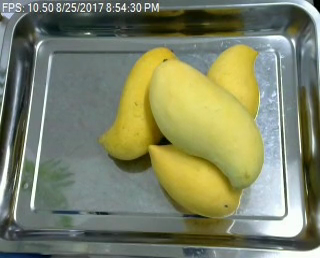Mango: (148, 57, 266, 189), (97, 46, 178, 162), (147, 143, 240, 218), (204, 46, 260, 120)
